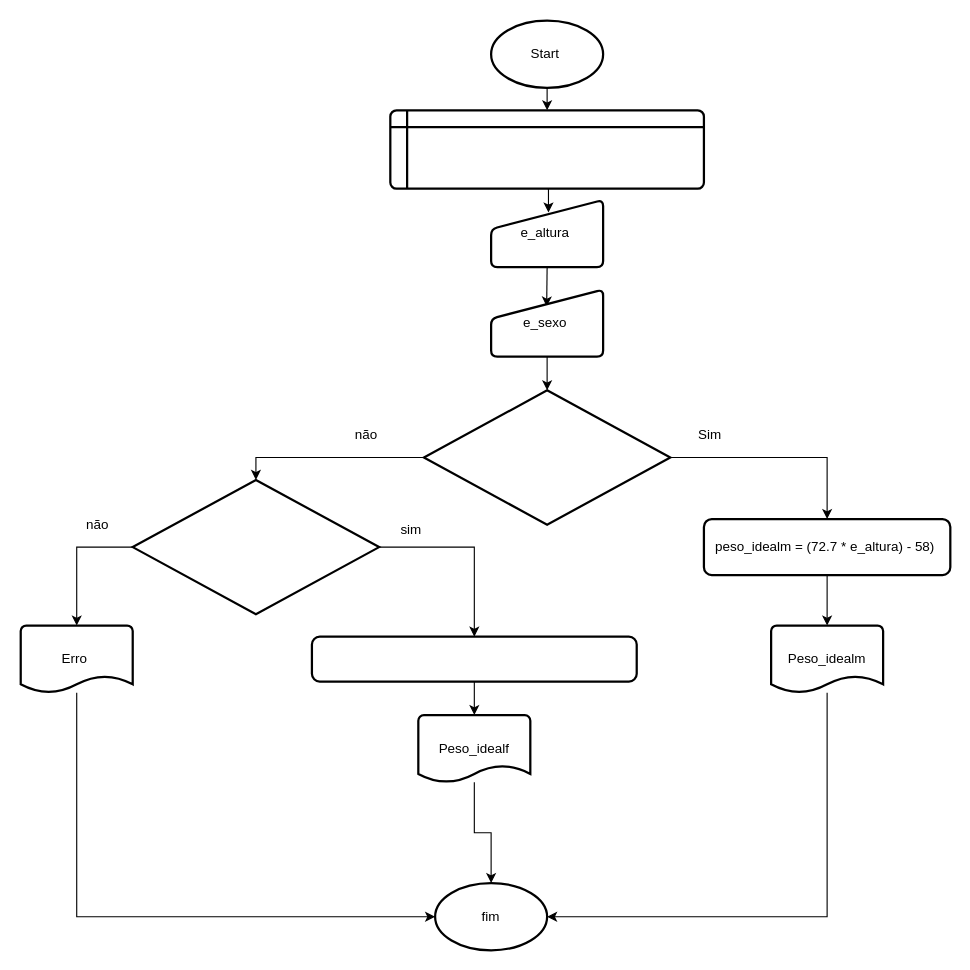
This 970x970 diagram has some shape labels left out. Each missing label, with the centre of its shape:
"e_altura, peso_idealf, peso_idealm, e_sexo." belongs at [546,149].
"peso_idealf = (62.1 * e_altura) - 44.7)" belongs at [473,658].
"sexo == 0 (feminino)" belongs at [255,546].
"sexo == 0 (masculino)" belongs at [546,457].
